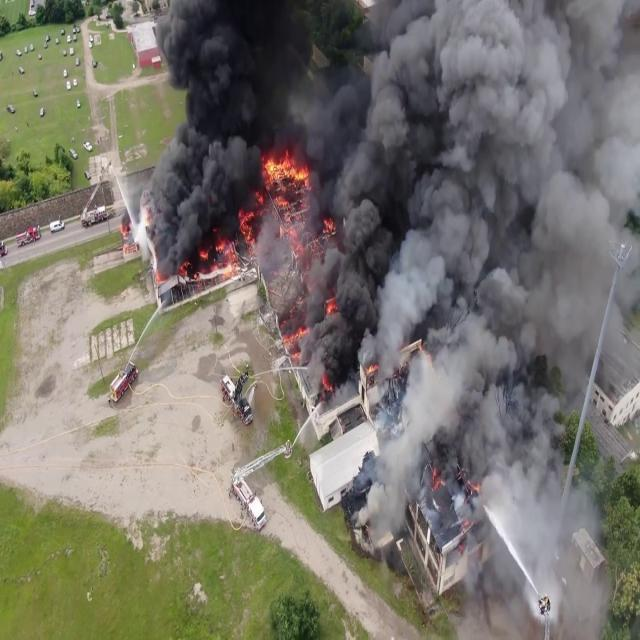Fire: (260, 138, 313, 194)
Smoke: (317, 0, 628, 563), (137, 0, 297, 289)
